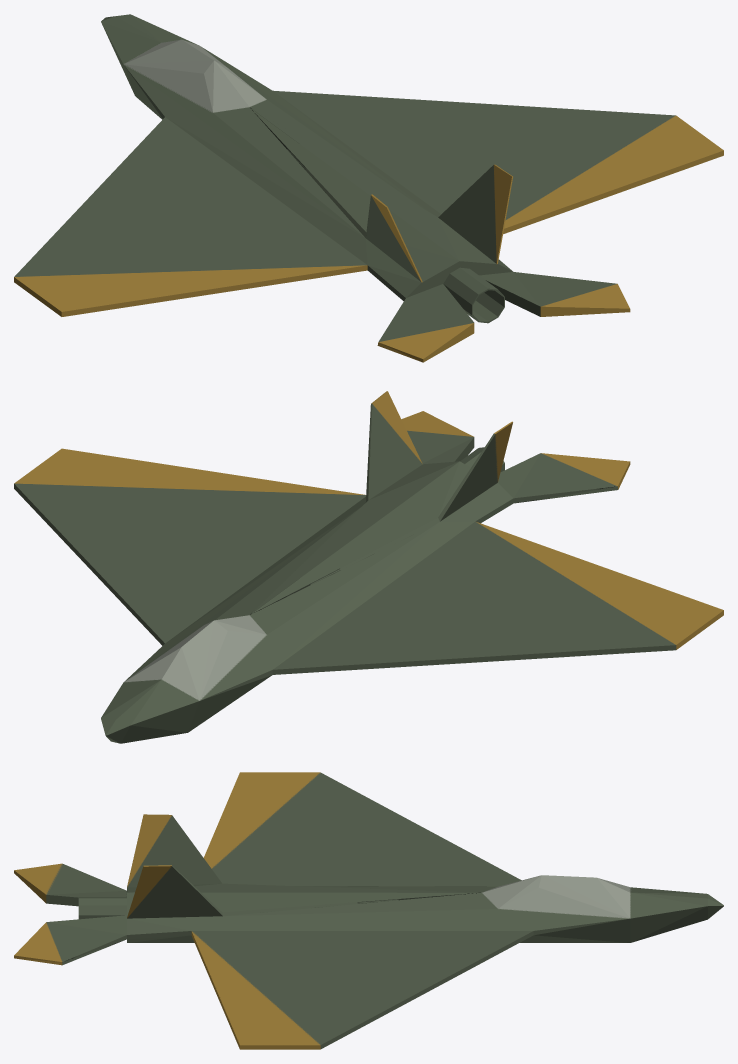
The model's file is jet.gltf.
3 renders of one model, top to bottom at view 1: azimuth 30°, elevation 25°; view 2: azimuth 150°, elevation 25°; view 3: azimuth 270°, elevation 25°, orthographic. The views are drawn at different scales.
Parts seen in each view (by area): view 1: JetExport; view 2: JetExport; view 3: JetExport.
Part boxes in pixels (x1,y1,x2,y2): JetExport: [14, 14, 723, 362]; JetExport: [14, 391, 723, 743]; JetExport: [14, 772, 723, 1049].
Bounding box in the file's own units: 4 × 0.629 × 4.4.
1 material, 1 textured.
